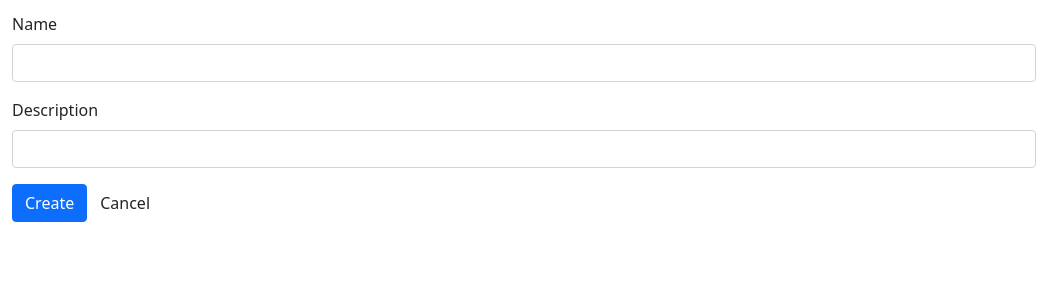
Scenario: PersonalScheduleForm tests › Correct Error messages on missing input
Click the button with test id "PersonalScheduleForm-submit": (50,203) [12,184,87,222]
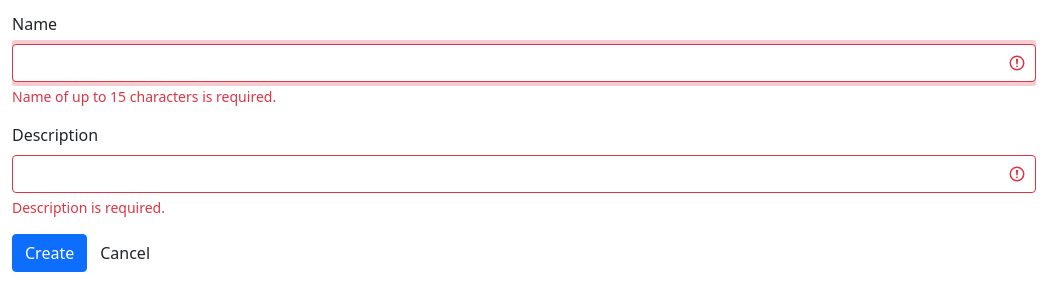
Check: the text "Name of up to 15 characters is required." is shown, box [12,87,276,106]
Check: the text "Description is required." is shown, box [12,198,165,217]
